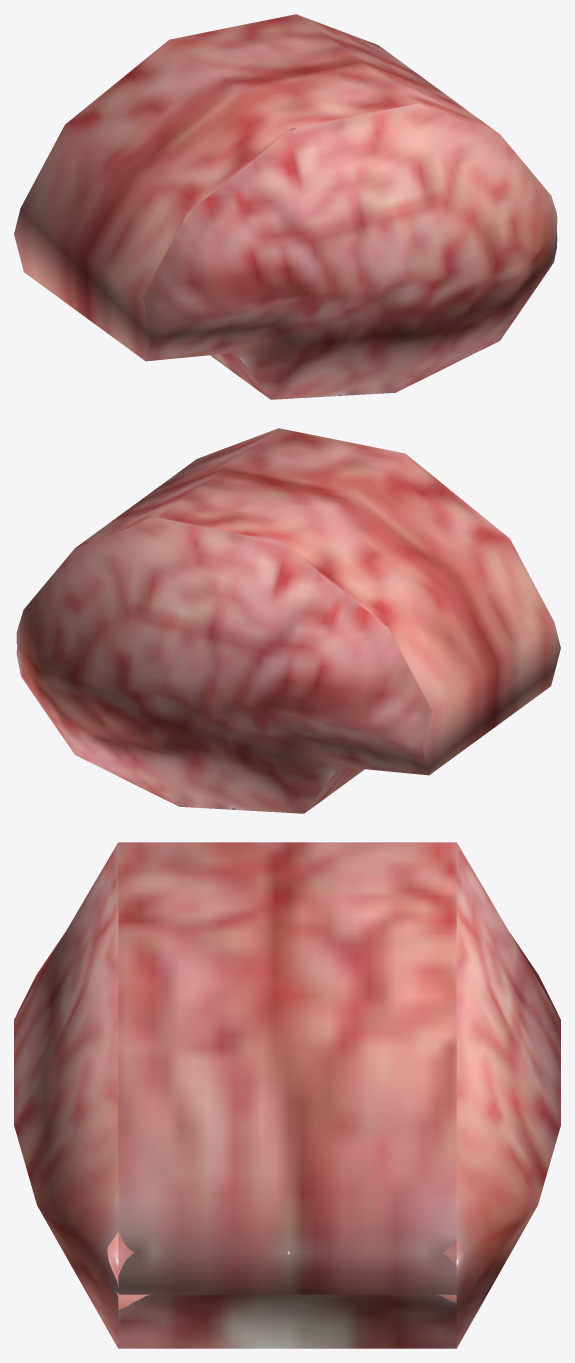
The model's file is brain.FBX.
3 views of the same model, one above another, from view 1: azimuth 30°, elevation 25°; view 2: azimuth 150°, elevation 25°; view 3: azimuth 270°, elevation 25° (orthographic). The views are drawn at different scales.
Visible parts, largest first — view 1: brain; view 2: brain; view 3: brain.
Boxes of the visible parts, box(x1,y1,x2,y2) form: brain: box(14, 14, 557, 399); brain: box(16, 428, 560, 813); brain: box(14, 842, 560, 1348).
Size of the model in its own units: 23.26 by 15.37 by 18.96.
